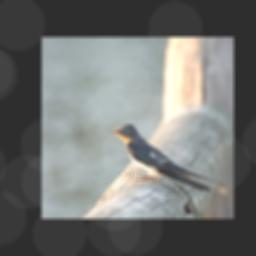Swallow: (107, 120, 227, 193)
